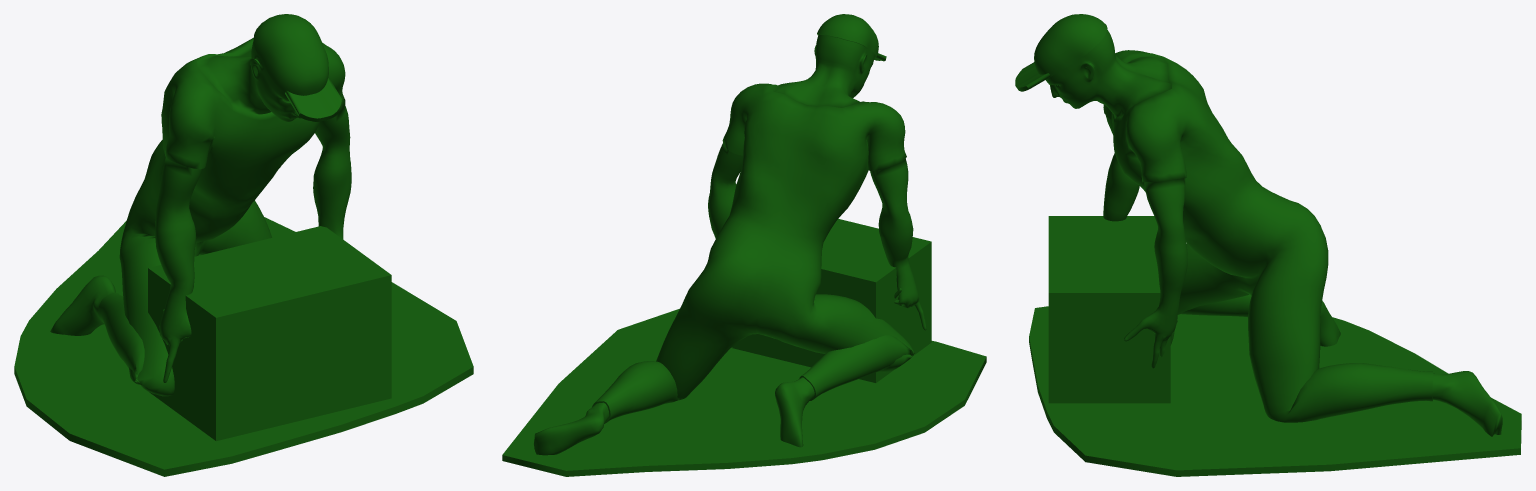
The model's file is Soldado4.fbx.
The picture shows the model from 3 angles, left to right: view 1: azimuth 30°, elevation 25°; view 2: azimuth 150°, elevation 25°; view 3: azimuth 270°, elevation 25°; orthographic projection. The views are drawn at different scales.
Parts seen in each view (by area): view 1: OldMan_low.001, Cube.002, Cube.001; view 2: OldMan_low.001, Cube.001, Cube.002; view 3: OldMan_low.001, Cube.001, Cube.002.
Part boxes in pixels (box(x1,y1,x2,y2)): OldMan_low.001: box(50, 14, 351, 396); Cube.002: box(148, 226, 391, 441); Cube.001: box(14, 217, 473, 476); OldMan_low.001: box(534, 14, 926, 455); Cube.001: box(502, 308, 986, 476); Cube.002: box(732, 219, 931, 382); OldMan_low.001: box(1015, 14, 1502, 436); Cube.001: box(1029, 306, 1521, 476); Cube.002: box(1048, 216, 1170, 403).
Bounding box in the file's own units: 102 × 101 × 123.
